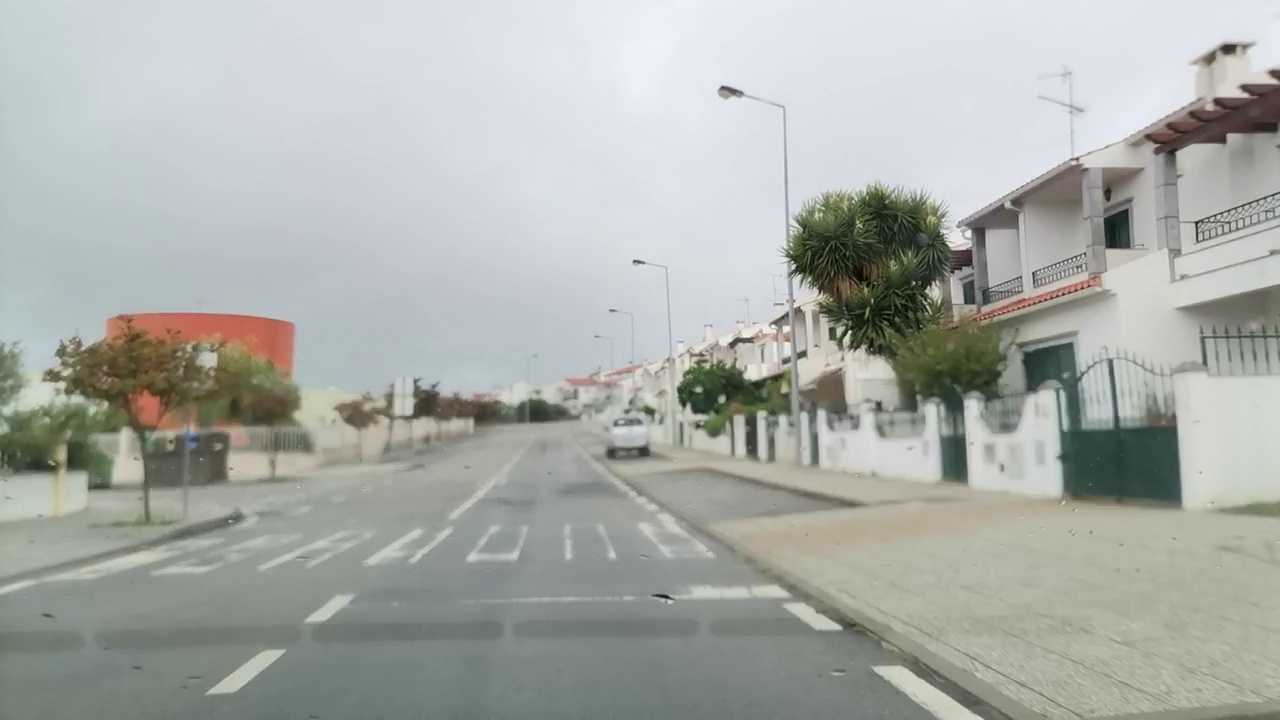Stairs: (49, 517, 718, 577)
